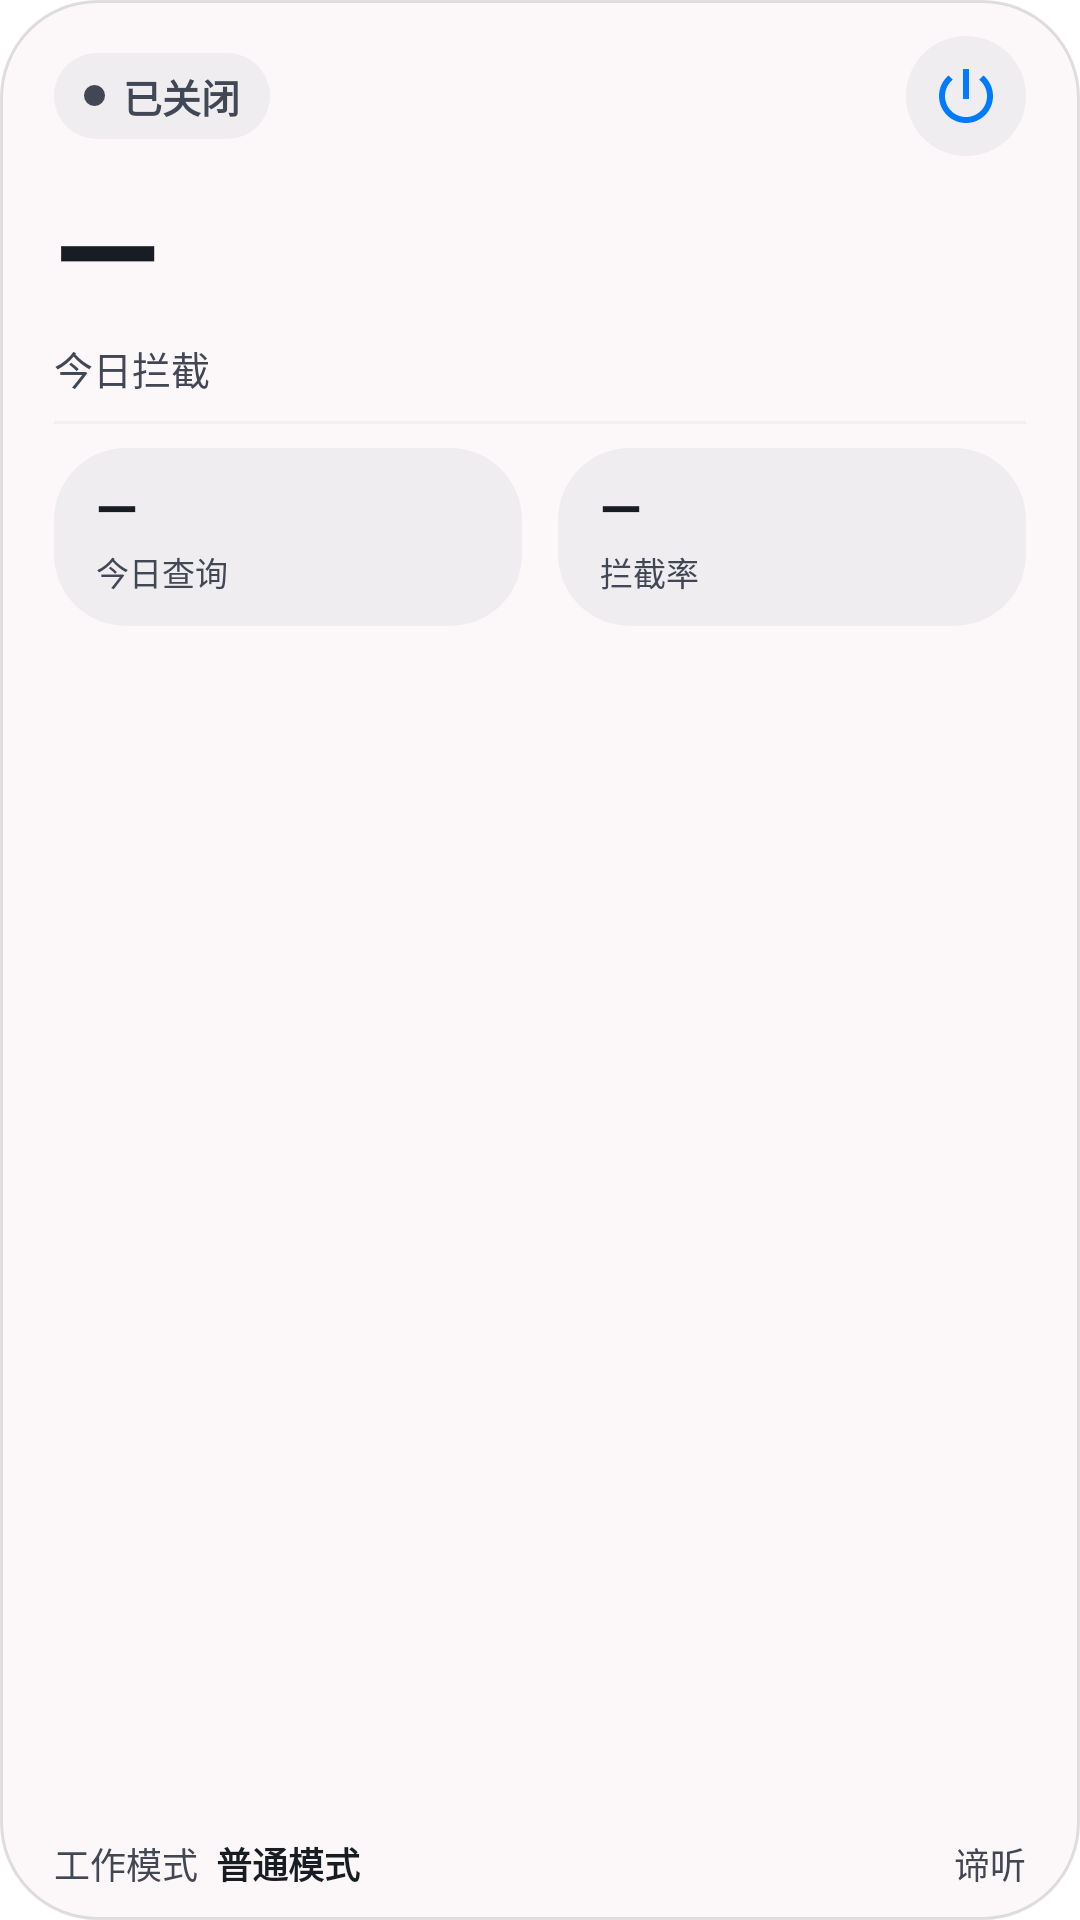

Where icons sit on this 1080 x 1920 app screen, as detection(x1, y1, x2, y2):
开启或关闭: detection(906, 36, 1026, 156)
